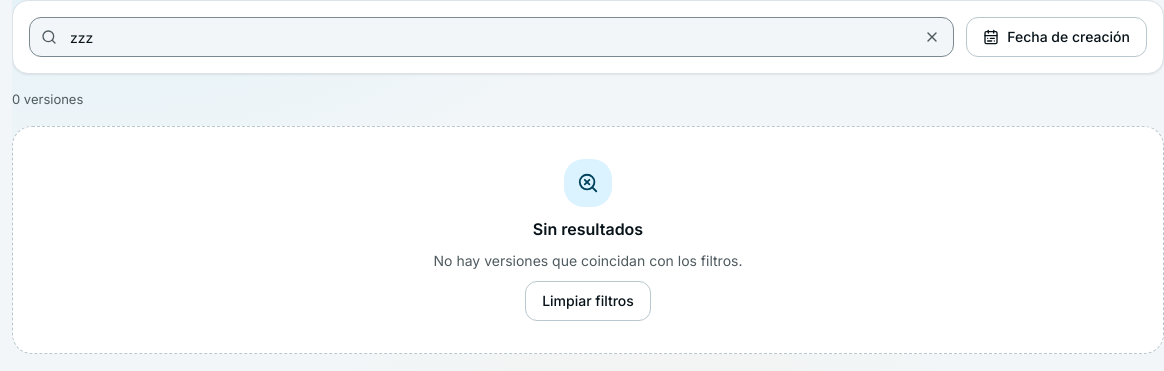
ConsultarVersionesArtefactoAsesor › un texto sin coincidencias muestra "Sin resultados" sin consultar y "Limpiar filtros" restablece
Expected: the text "Sin resultados" is shown, 533,217 -> 643,241
Click the button "Limpiar filtros" at (588, 301), box 525,281 -> 651,321
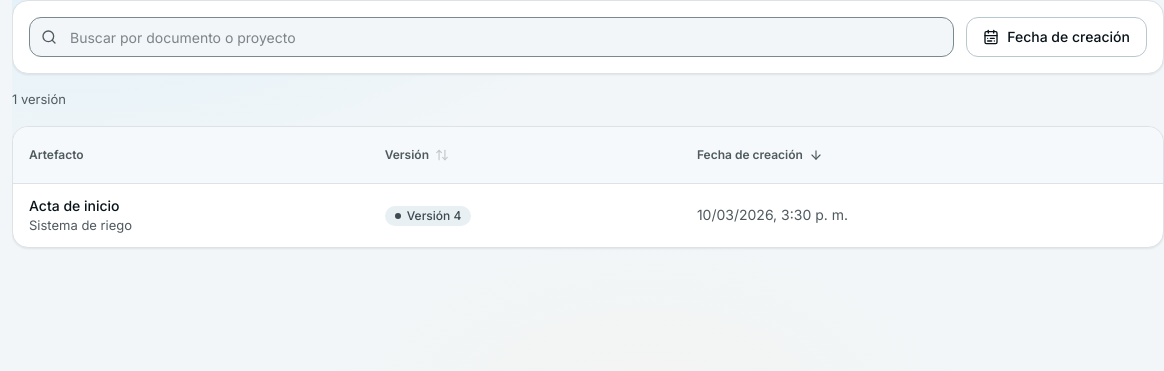
Result: the table named "Versiones de artefactos" is shown at 13,127 -> 1163,247
